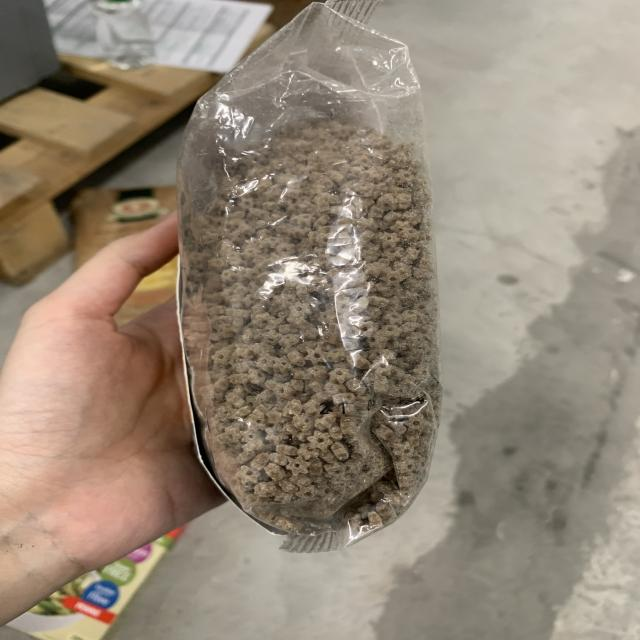object_name: (184, 25, 434, 532)
